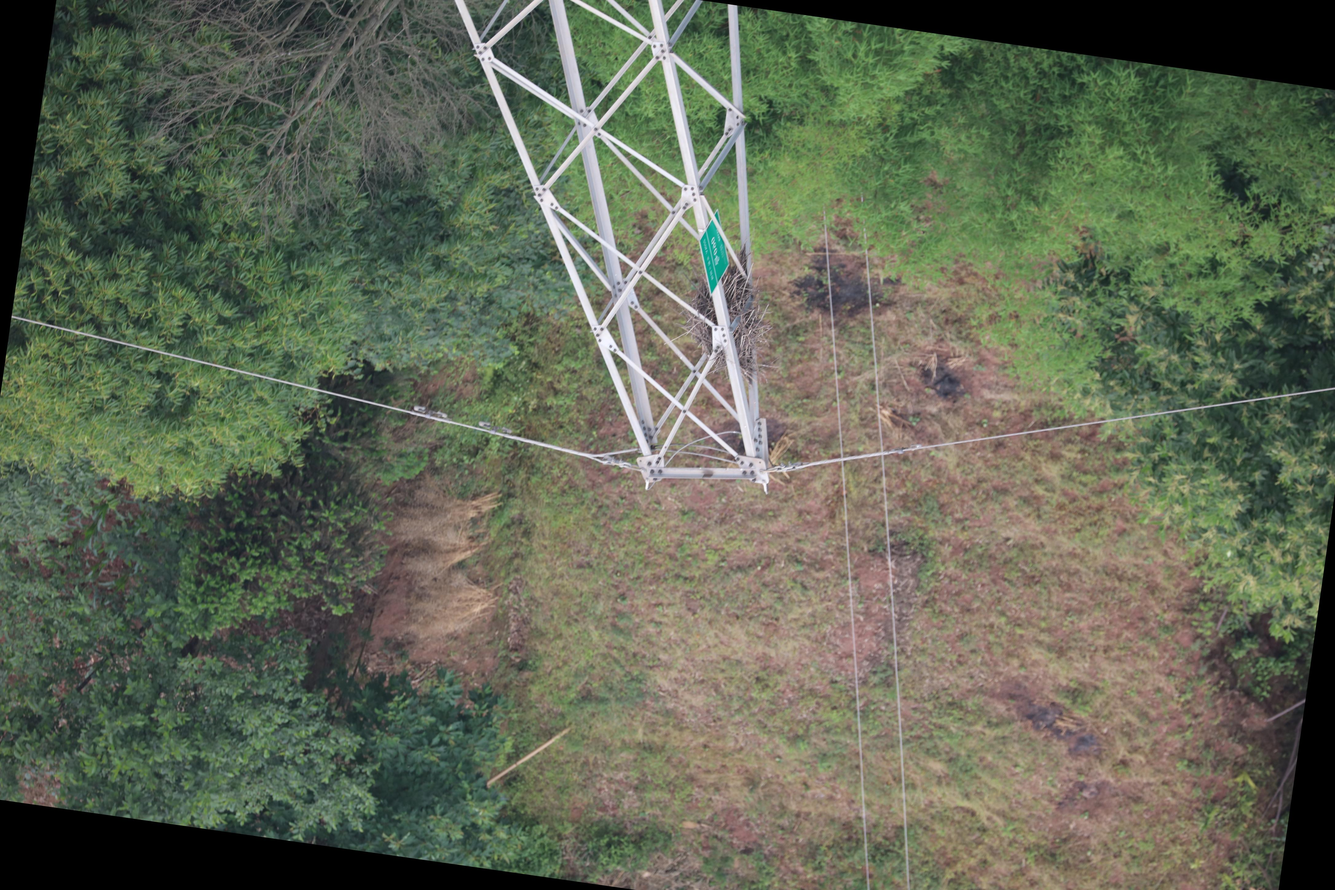damper: (409, 402, 451, 423), (475, 418, 515, 440)
